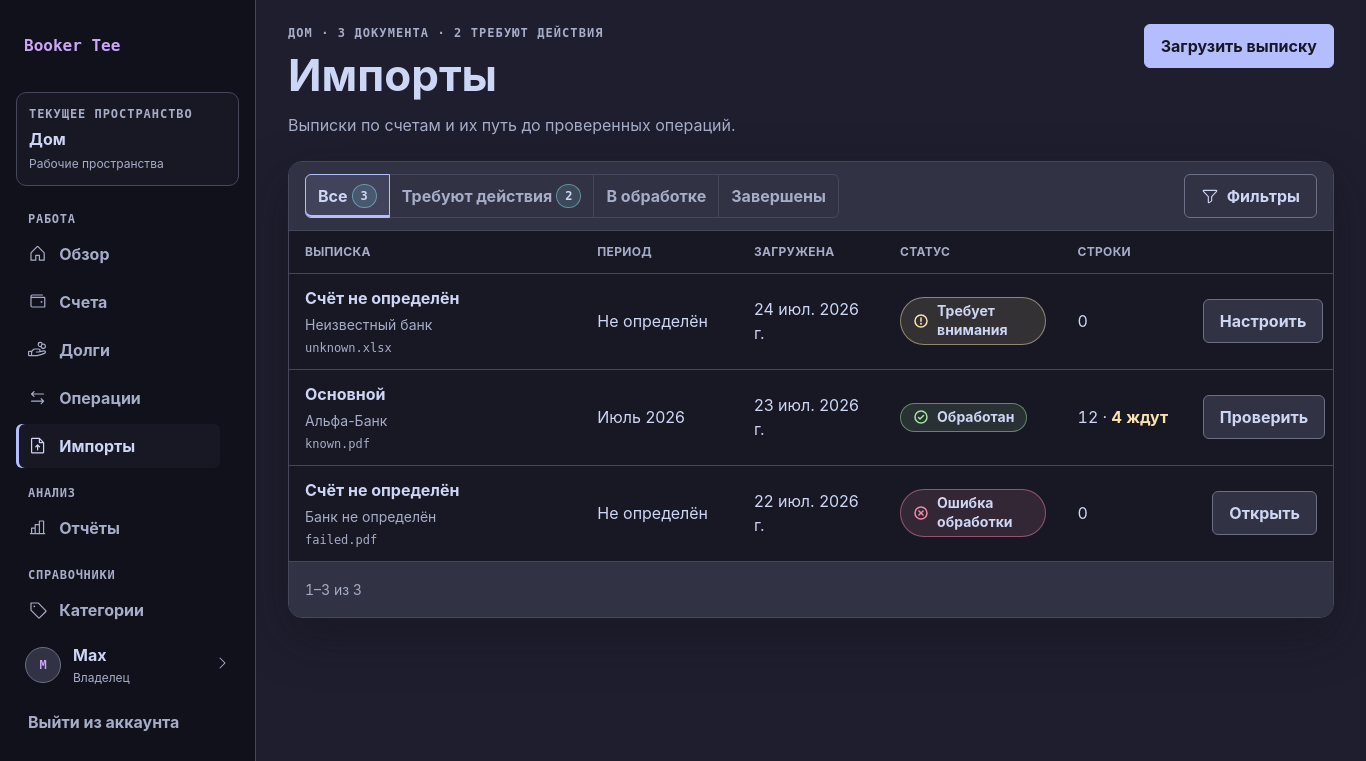
it: ImportDocumentListPage › composes shared workbench regions and discloses filters
This screenshot has width=1366, height=761.
Expected: the element named "Инструменты списка" is shown, [289,162,1333,231]
Expected: the element named "Документы импорта" is shown, [289,231,1333,561]
Click the button "Фильтры": [1250, 196] box [1184,174,1317,218]
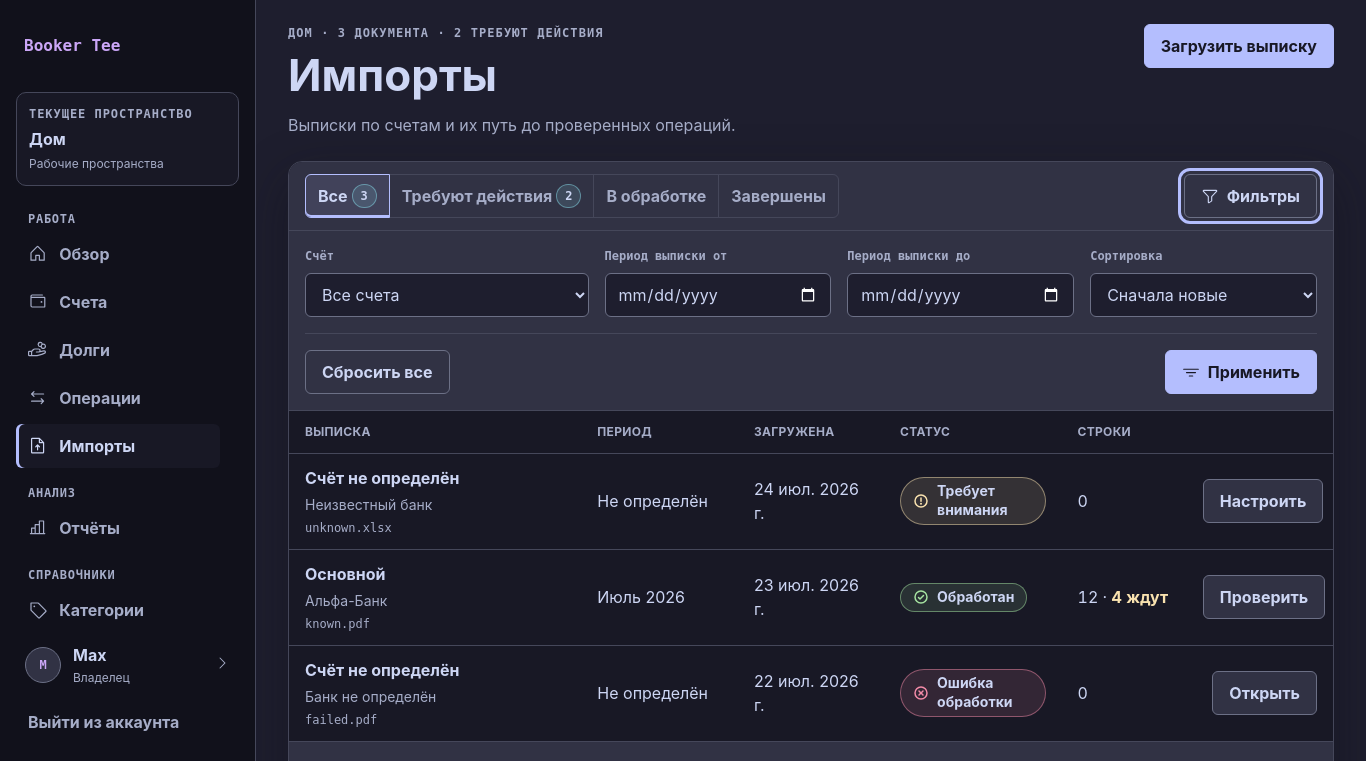
Now the dropdown labelled "Счёт" is shown, box [305,273,588,317]
Now the date field labelled "Период выписки от" is shown, box [604,273,831,317]
